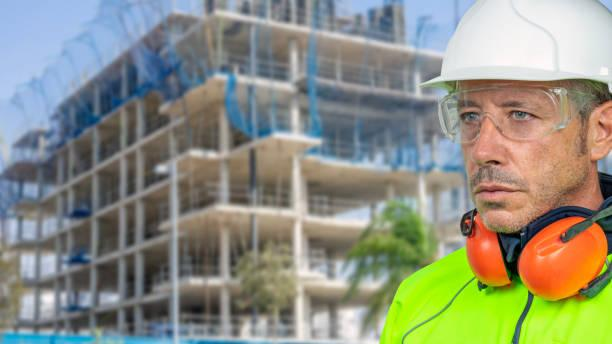goggle: (420, 90, 605, 142)
helmet: (414, 0, 612, 90)
vest: (376, 237, 612, 344)
